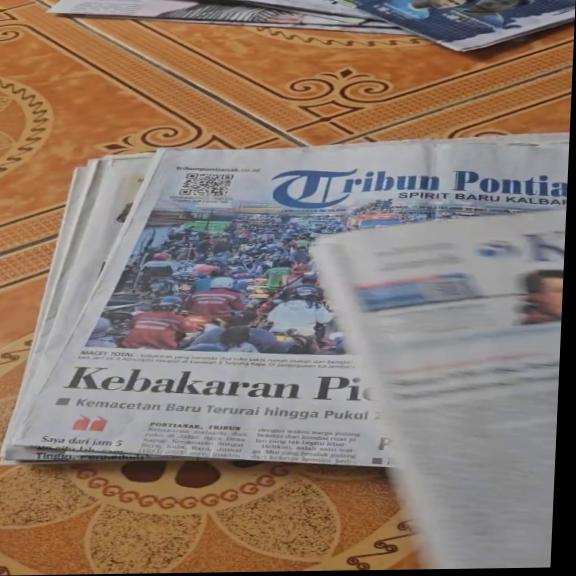Kertas: (6, 134, 561, 470)
